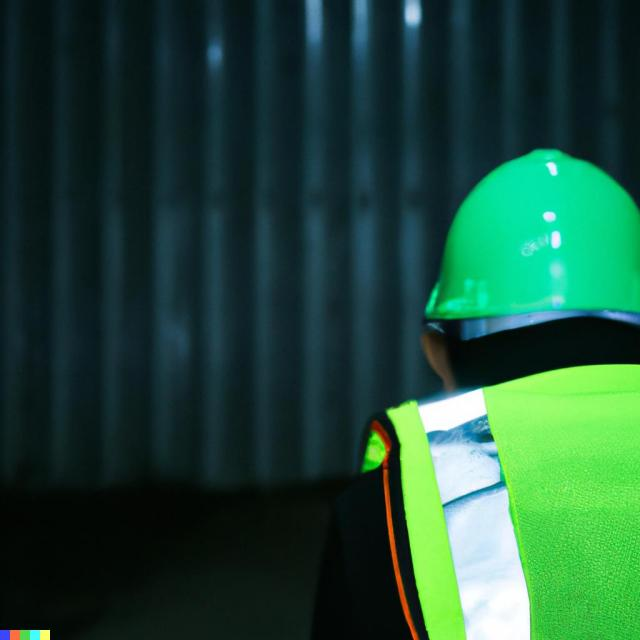Reflective-Jacket: (344, 360, 640, 638)
Safety-Helmet: (415, 146, 640, 358)
